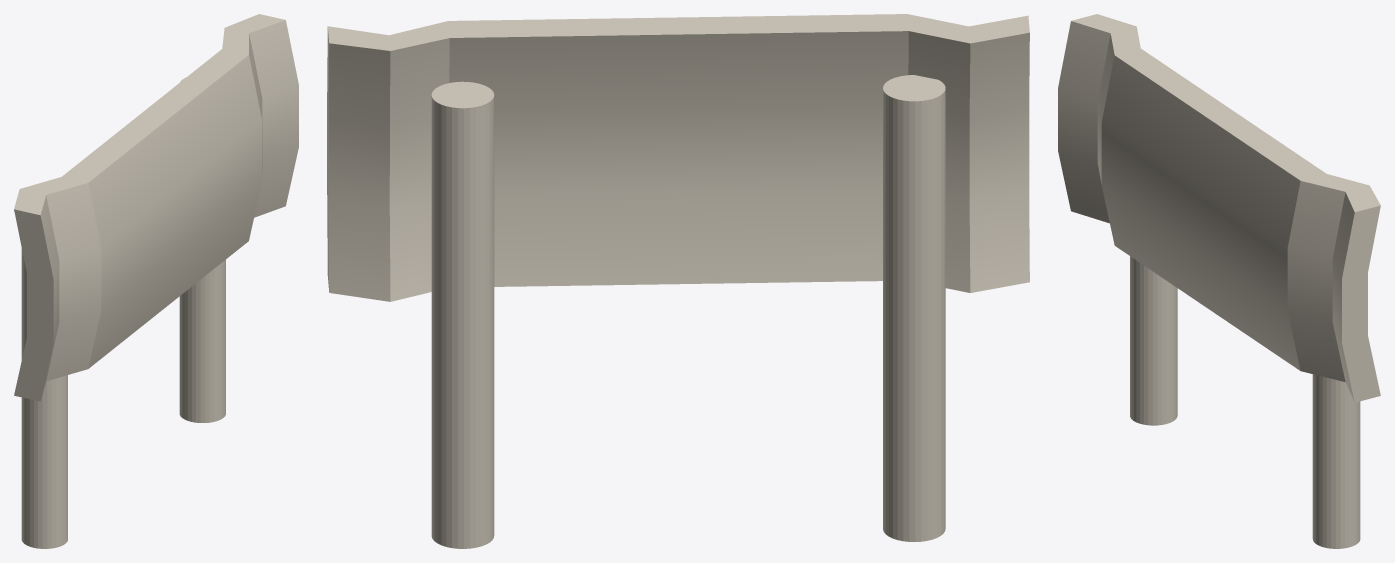
Rendered from 030_ガードレール002.glb.
3 views of the same model, side by side, from view 1: azimuth 30°, elevation 25°; view 2: azimuth 150°, elevation 25°; view 3: azimuth 270°, elevation 25° (orthographic). The views are drawn at different scales.
Visible parts, largest first — view 1: ガードレール002; view 2: ガードレール002; view 3: ガードレール002.
Boxes of the visible parts, x1,y1,x2,y2 form: ガードレール002: [14, 14, 298, 548]; ガードレール002: [327, 14, 1029, 548]; ガードレール002: [1058, 14, 1380, 548].
Size of the model in its own units: 1.04 by 0.8919 by 0.7008.
